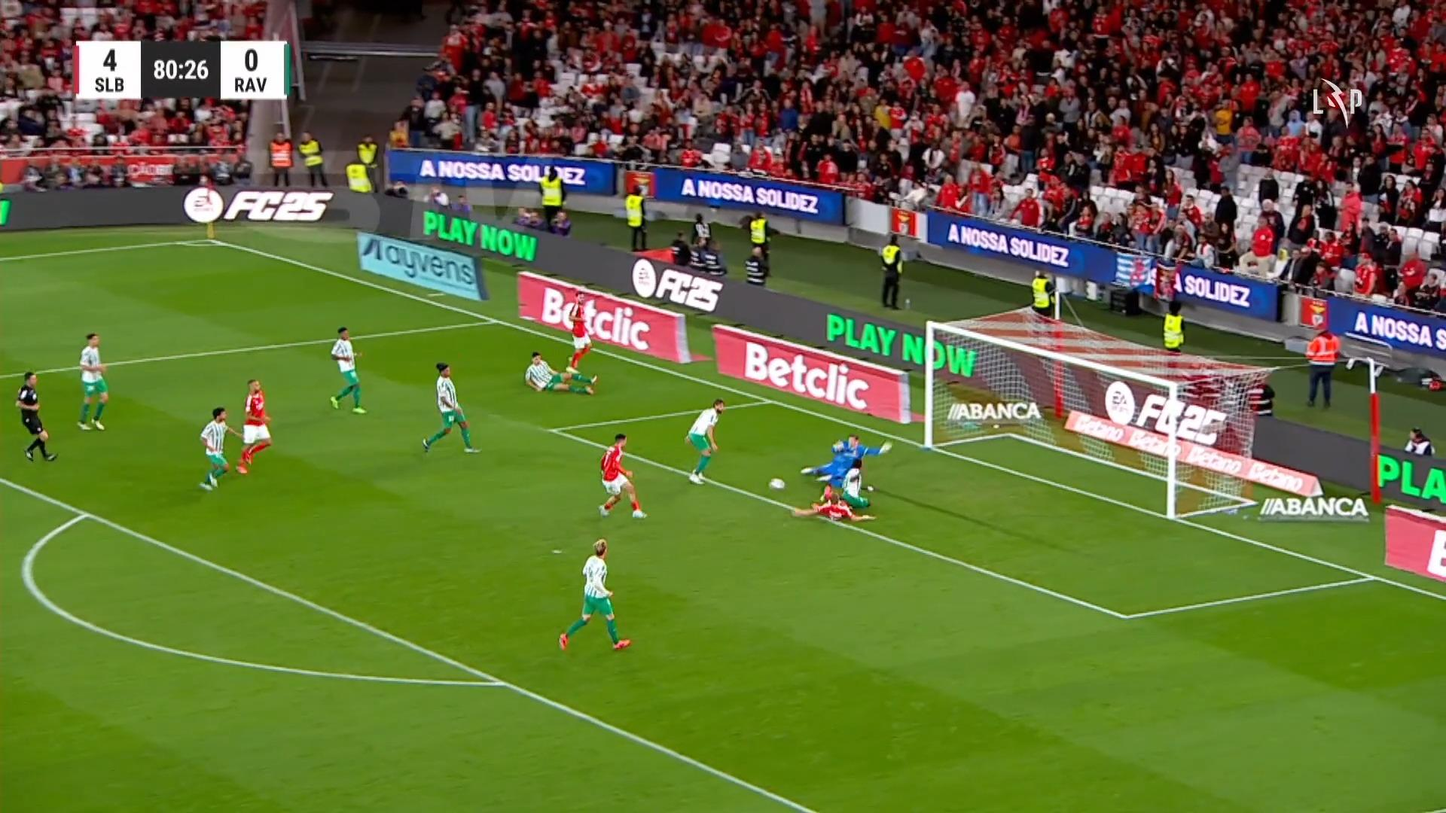ball: (769, 477, 784, 489)
goalkeeper: (799, 434, 893, 489)
player: (557, 537, 632, 652), (420, 361, 480, 454), (597, 433, 647, 519), (197, 406, 243, 490), (234, 378, 273, 474), (684, 397, 725, 484), (328, 326, 367, 413), (523, 351, 598, 395), (77, 332, 108, 431), (791, 492, 877, 522), (564, 290, 594, 370), (840, 458, 873, 508)
referee: (15, 370, 57, 461)
